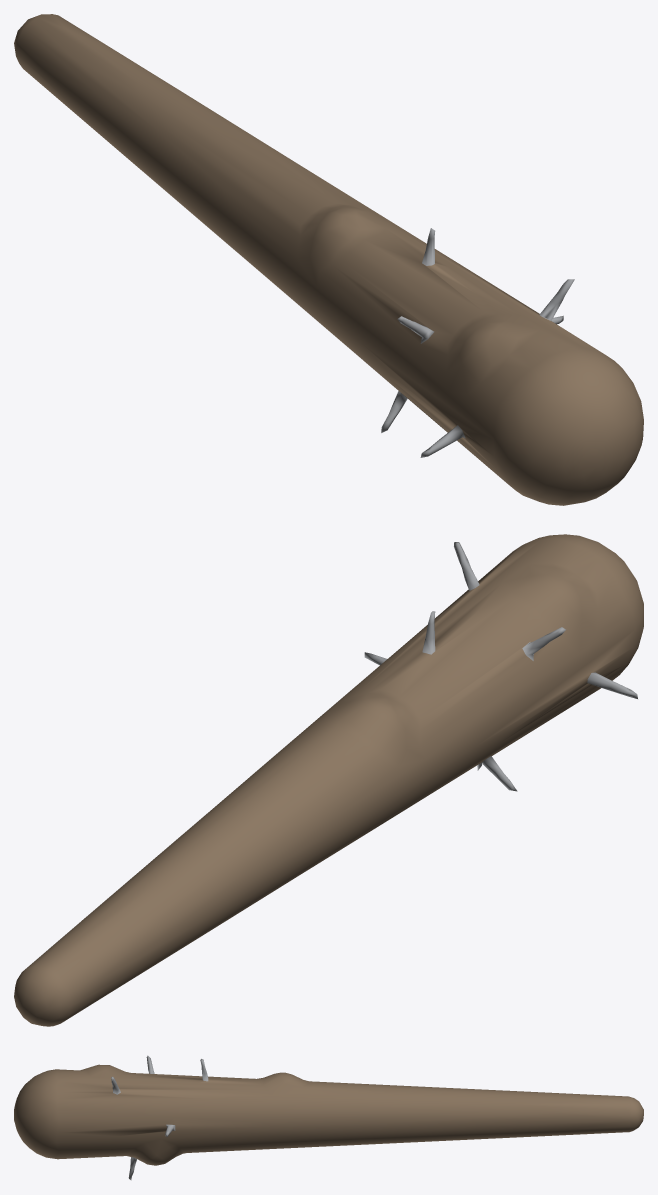
The model's file is Club.fbx.
3 views of the same model, one above another, from view 1: azimuth 30°, elevation 25°; view 2: azimuth 150°, elevation 25°; view 3: azimuth 270°, elevation 25° (orthographic). The views are drawn at different scales.
Parts seen in each view (by area): view 1: Club; view 2: Club; view 3: Club.
Boxes of the visible parts, x1,y1,x2,y2 form: Club: (14,14,643,505); Club: (14,534,643,1026); Club: (14,1055,643,1180).
Size of the model in its own units: 8.85 by 8.58 by 42.17.
